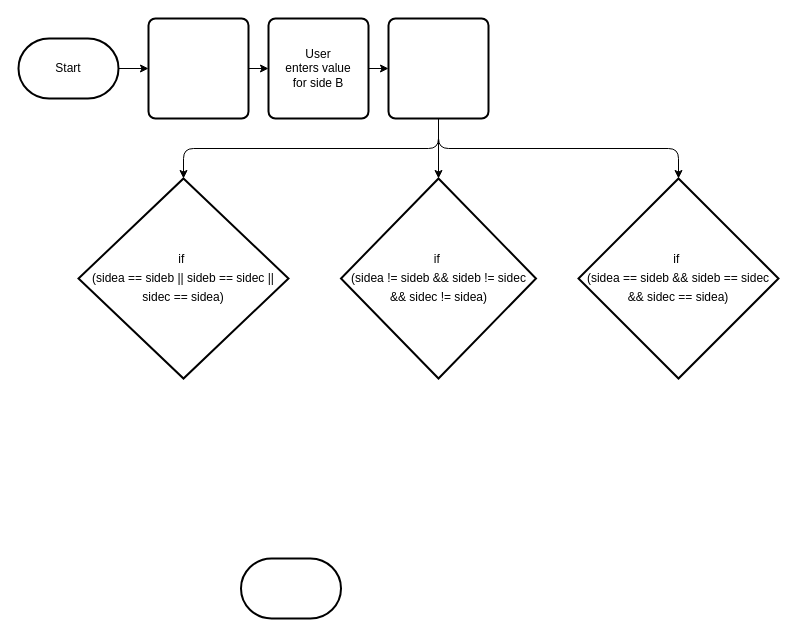
Image size: 796x636. Some labels were removed from this diagram. The shapes that lost their labels are listed below. From the top down, each one's centre as x and y in pixels, then its label:
At point 198,68: "User enters value for side A".
At point 438,68: "User enters value for side C".
